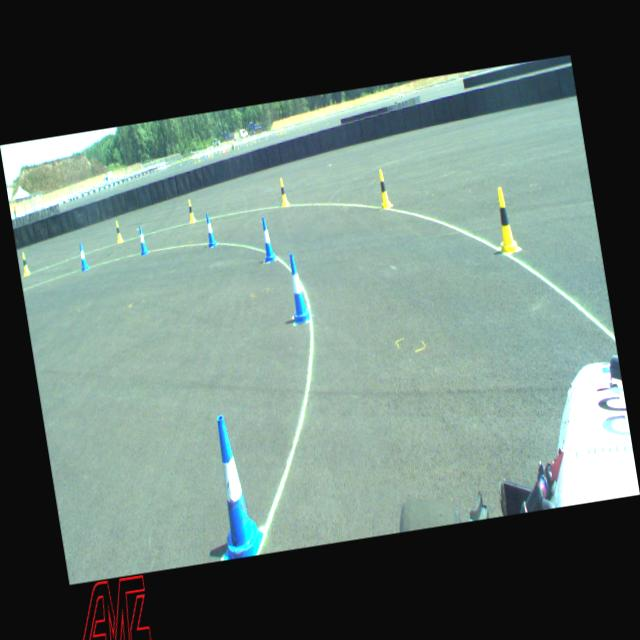blue_cone: (202, 413, 266, 560), (284, 252, 310, 324), (258, 217, 277, 263), (204, 214, 216, 248), (136, 226, 149, 256), (77, 242, 89, 271)
yellow_cone: (490, 187, 520, 255), (376, 168, 391, 210), (278, 178, 290, 206), (20, 252, 31, 276), (186, 198, 196, 222), (114, 220, 122, 242)
